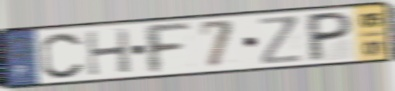7: (197, 18, 240, 70)
C: (39, 31, 87, 80)
F: (140, 22, 193, 76)
H: (83, 26, 133, 78)
P: (306, 10, 355, 64)
Z: (256, 13, 305, 66)
